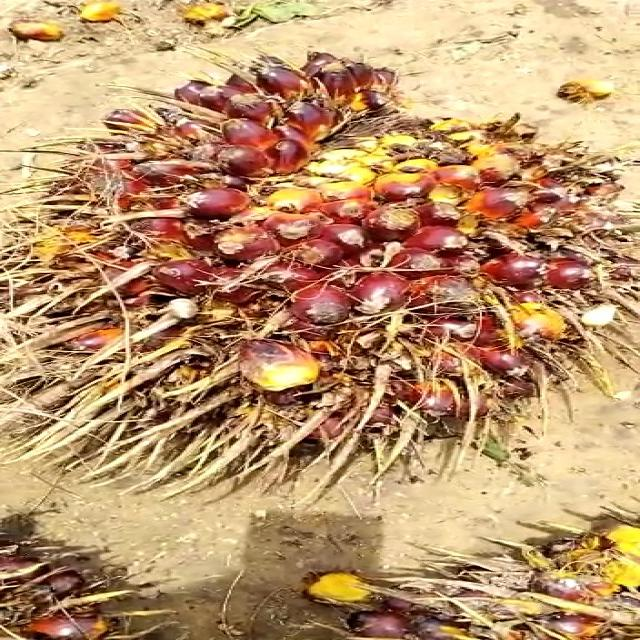palm oil: (23, 52, 640, 474)
